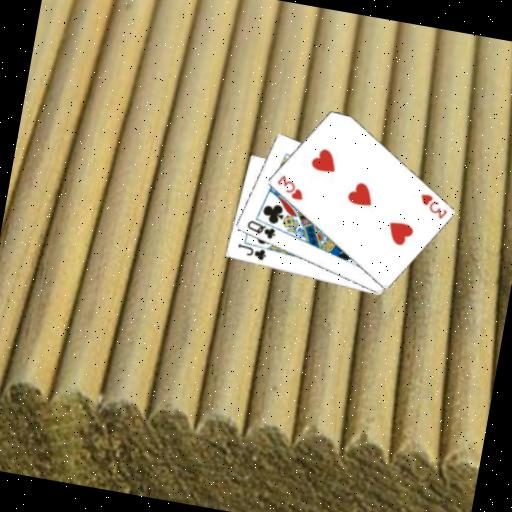3H: (414, 190, 451, 222), (271, 170, 307, 202)
JC: (232, 240, 268, 263)
QC: (242, 216, 278, 242)
